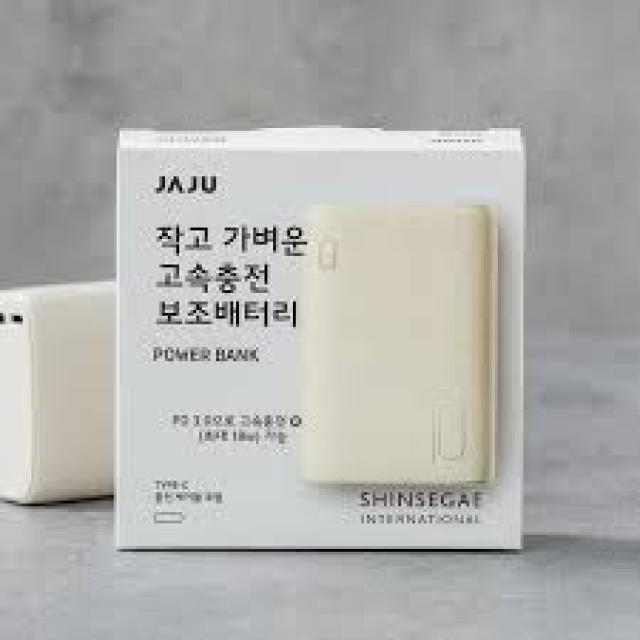portable-charger: (310, 202, 495, 482), (0, 290, 121, 504)
